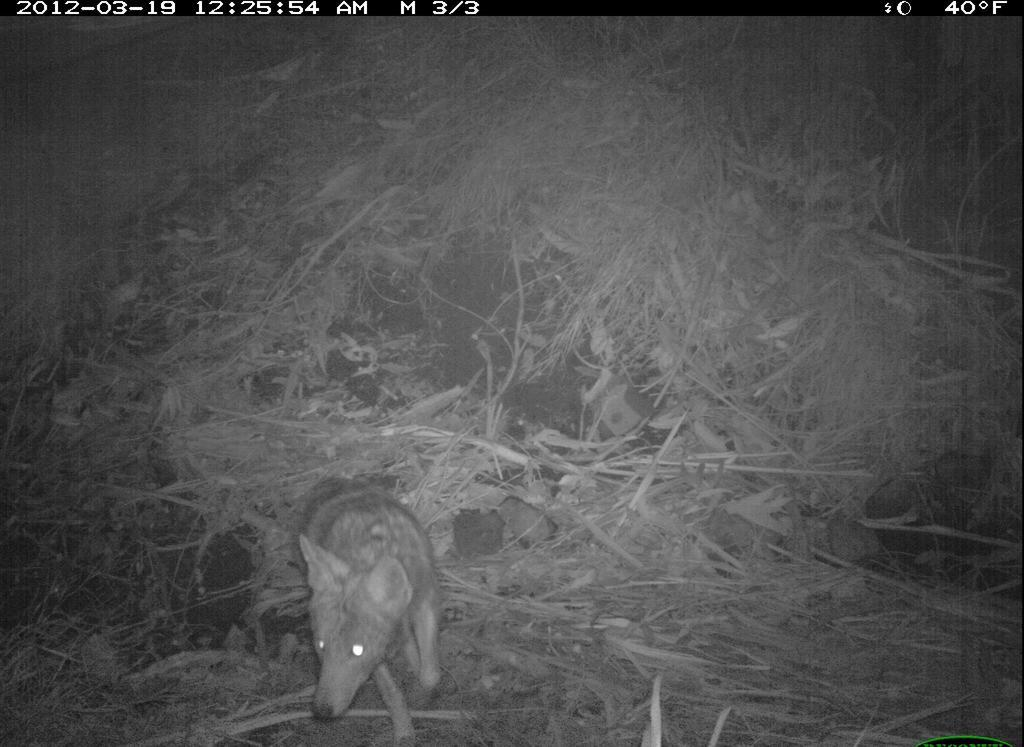coyote: (286, 460, 455, 745)
